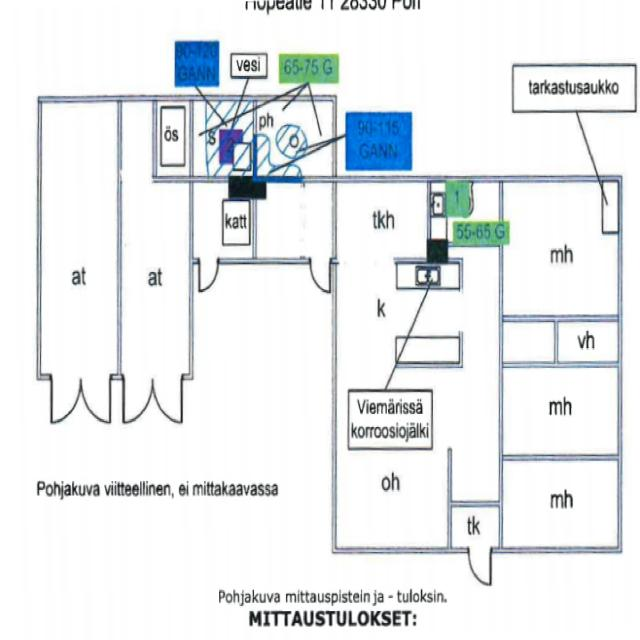door: (80, 378, 156, 426), (150, 376, 185, 426), (48, 376, 83, 426), (121, 376, 155, 427), (79, 376, 113, 427), (466, 546, 494, 590), (307, 256, 335, 296), (195, 258, 221, 294)
window: (509, 170, 597, 191), (495, 314, 509, 366)
zone: (333, 192, 461, 396), (38, 100, 121, 386), (118, 147, 194, 406), (498, 179, 623, 331), (499, 362, 622, 463), (499, 457, 622, 554), (156, 93, 260, 183), (336, 181, 433, 262), (500, 316, 622, 380), (253, 94, 336, 180), (190, 179, 256, 263), (346, 389, 434, 450), (430, 176, 505, 246), (556, 314, 620, 364), (449, 504, 501, 550)
